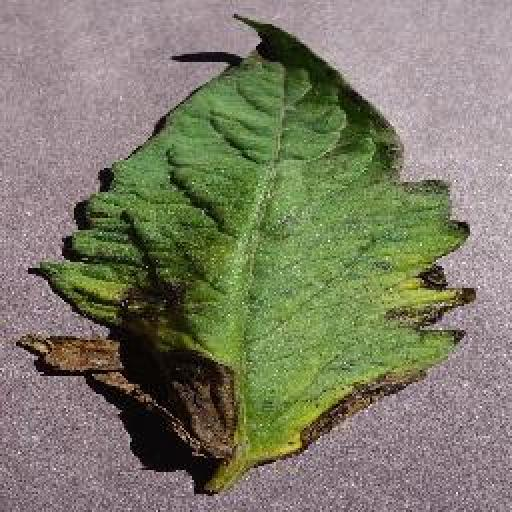Early Blight: (22, 18, 473, 498)
